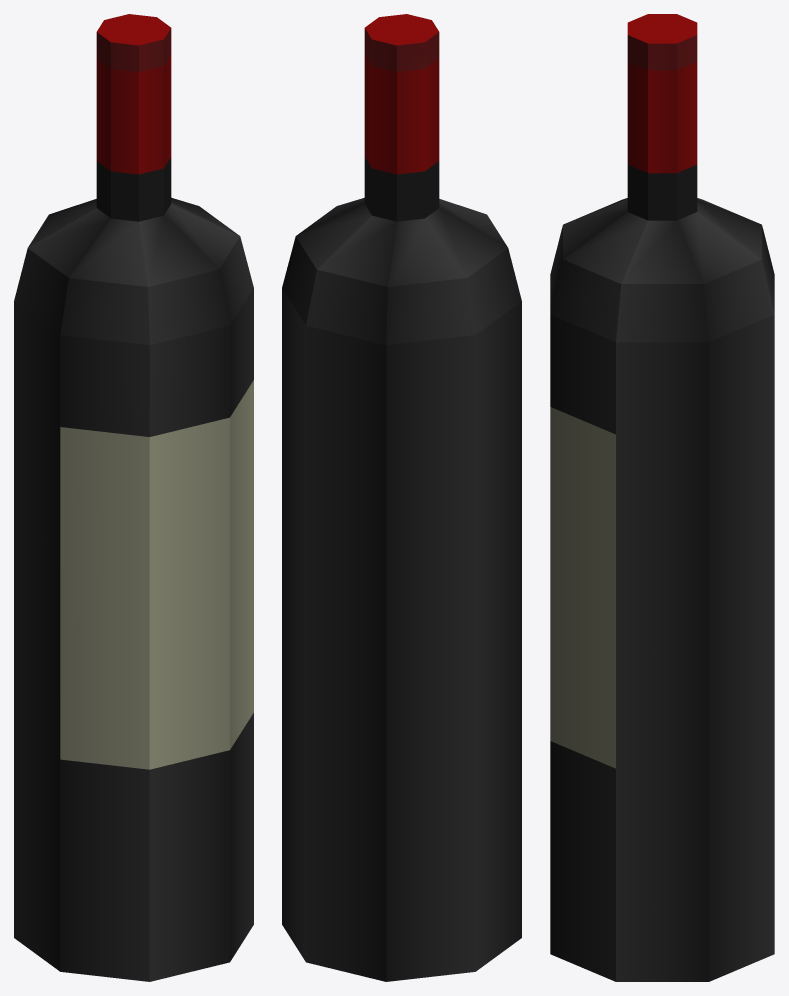
The model's file is Wine.fbx.
3 views of the same model, side by side, from view 1: azimuth 30°, elevation 25°; view 2: azimuth 150°, elevation 25°; view 3: azimuth 270°, elevation 25° (orthographic).
Visible parts, largest first — view 1: Wine; view 2: Wine; view 3: Wine.
Boxes of the visible parts, bbox=[...] form: Wine: bbox=[14, 14, 253, 981]; Wine: bbox=[282, 14, 521, 981]; Wine: bbox=[550, 14, 774, 981].
Size of the model in its own units: 6.44 by 28.66 by 6.44.
